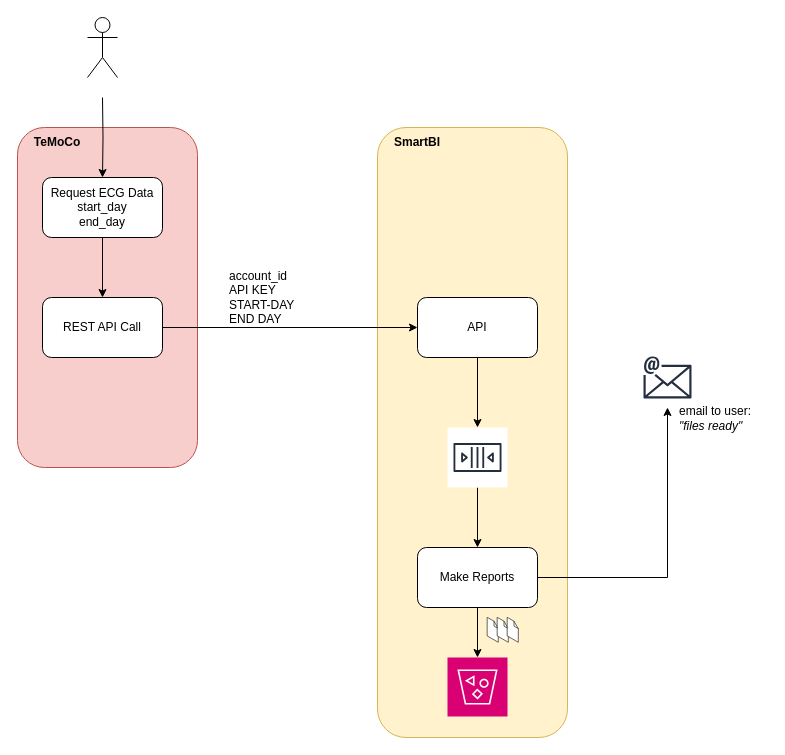
This 785x755 diagram has some shape labels left out. The shapes that lost their labels are listed below. From the top down, each one's box as (x1, y1, x2, y2) in pixels, then its label:
(86, 16, 118, 78): Logged User (GAIA)
(446, 426, 508, 488): QUEUE
